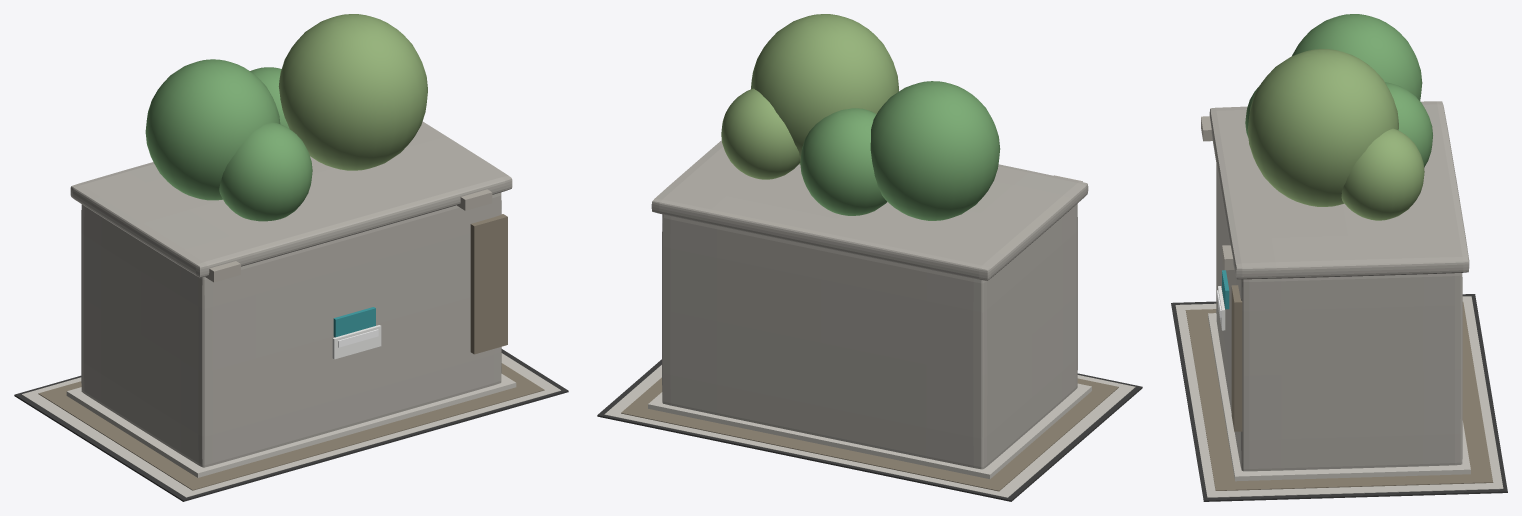
Rendered from hm_prop_planter_v2.glb.
The picture shows the model from 3 angles, left to right: view 1: azimuth 30°, elevation 25°; view 2: azimuth 150°, elevation 25°; view 3: azimuth 270°, elevation 25°; orthographic projection.
Visible parts, largest first — view 1: Planter_Outer, Planter_Rim, Planter_Foliage_1, Planter_Foliage_0, hm_prop_planter_v2_Dirt, Planter_Foliage_4, Planter_Stain, hm_prop_planter_v2_SaltRing, Planter_Salt, hm_prop_planter_v2_Shadow, Planter_HM, hm_prop_planter_v2_AssetPlate (+1 smaller); view 2: Planter_Outer, Planter_Rim, Planter_Foliage_0, Planter_Foliage_1, hm_prop_planter_v2_Dirt, Planter_Foliage_2, Planter_Foliage_3, hm_prop_planter_v2_SaltRing, Planter_Salt, hm_prop_planter_v2_Shadow; view 3: Planter_Outer, Planter_Rim, Planter_Foliage_1, hm_prop_planter_v2_Dirt, hm_prop_planter_v2_SaltRing, Planter_Foliage_3, Planter_Foliage_0, Planter_Salt, hm_prop_planter_v2_Shadow, Planter_Foliage_2, Planter_Stain.
Boxes of the visible parts, x1,y1,x2,y2 form: Planter_Outer: [81, 192, 501, 467]; Planter_Rim: [70, 121, 512, 277]; Planter_Foliage_1: [278, 14, 427, 170]; Planter_Foliage_0: [145, 59, 280, 200]; hm_prop_planter_v2_Dirt: [38, 363, 544, 490]; Planter_Foliage_4: [219, 122, 312, 221]; Planter_Stain: [470, 214, 507, 354]; hm_prop_planter_v2_SaltRing: [22, 353, 560, 497]; Planter_Salt: [66, 373, 516, 477]; hm_prop_planter_v2_Shadow: [14, 349, 568, 501]; Planter_HM: [333, 307, 375, 337]; hm_prop_planter_v2_AssetPlate: [332, 325, 381, 359]; Planter_Outer: [662, 204, 1077, 469]; Planter_Rim: [651, 140, 1088, 280]; Planter_Foliage_0: [870, 81, 1000, 220]; Planter_Foliage_1: [751, 14, 898, 164]; hm_prop_planter_v2_Dirt: [621, 377, 1118, 491]; Planter_Foliage_2: [800, 108, 887, 215]; Planter_Foliage_3: [721, 88, 800, 179]; hm_prop_planter_v2_SaltRing: [604, 365, 1135, 497]; Planter_Salt: [648, 383, 1091, 478]; hm_prop_planter_v2_Shadow: [597, 359, 1142, 501]; Planter_Outer: [1216, 164, 1462, 471]; Planter_Rim: [1209, 101, 1469, 279]; Planter_Foliage_1: [1247, 49, 1398, 206]; hm_prop_planter_v2_Dirt: [1185, 302, 1493, 490]; hm_prop_planter_v2_SaltRing: [1175, 296, 1503, 497]; Planter_Foliage_3: [1341, 128, 1424, 220]; Planter_Foliage_0: [1292, 14, 1422, 100]; Planter_Salt: [1208, 313, 1470, 481]; hm_prop_planter_v2_Shadow: [1171, 294, 1507, 501]; Planter_Foliage_2: [1385, 82, 1432, 167]; Planter_Stain: [1231, 285, 1242, 431].
Size of the model in its own units: 1.2 by 0.9998 by 0.8259.
